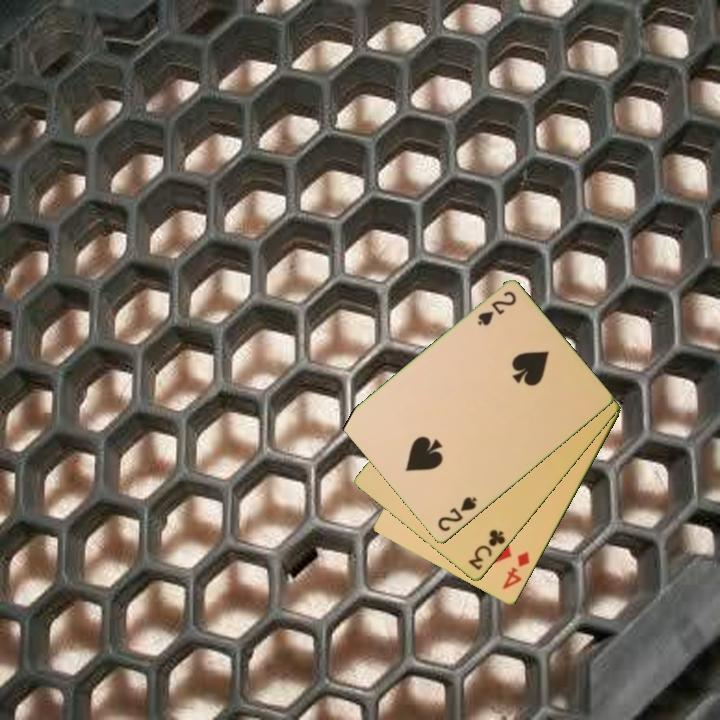2s: (434, 493, 480, 535), (474, 288, 519, 329)
3c: (465, 526, 508, 573)
4d: (499, 548, 533, 593)
